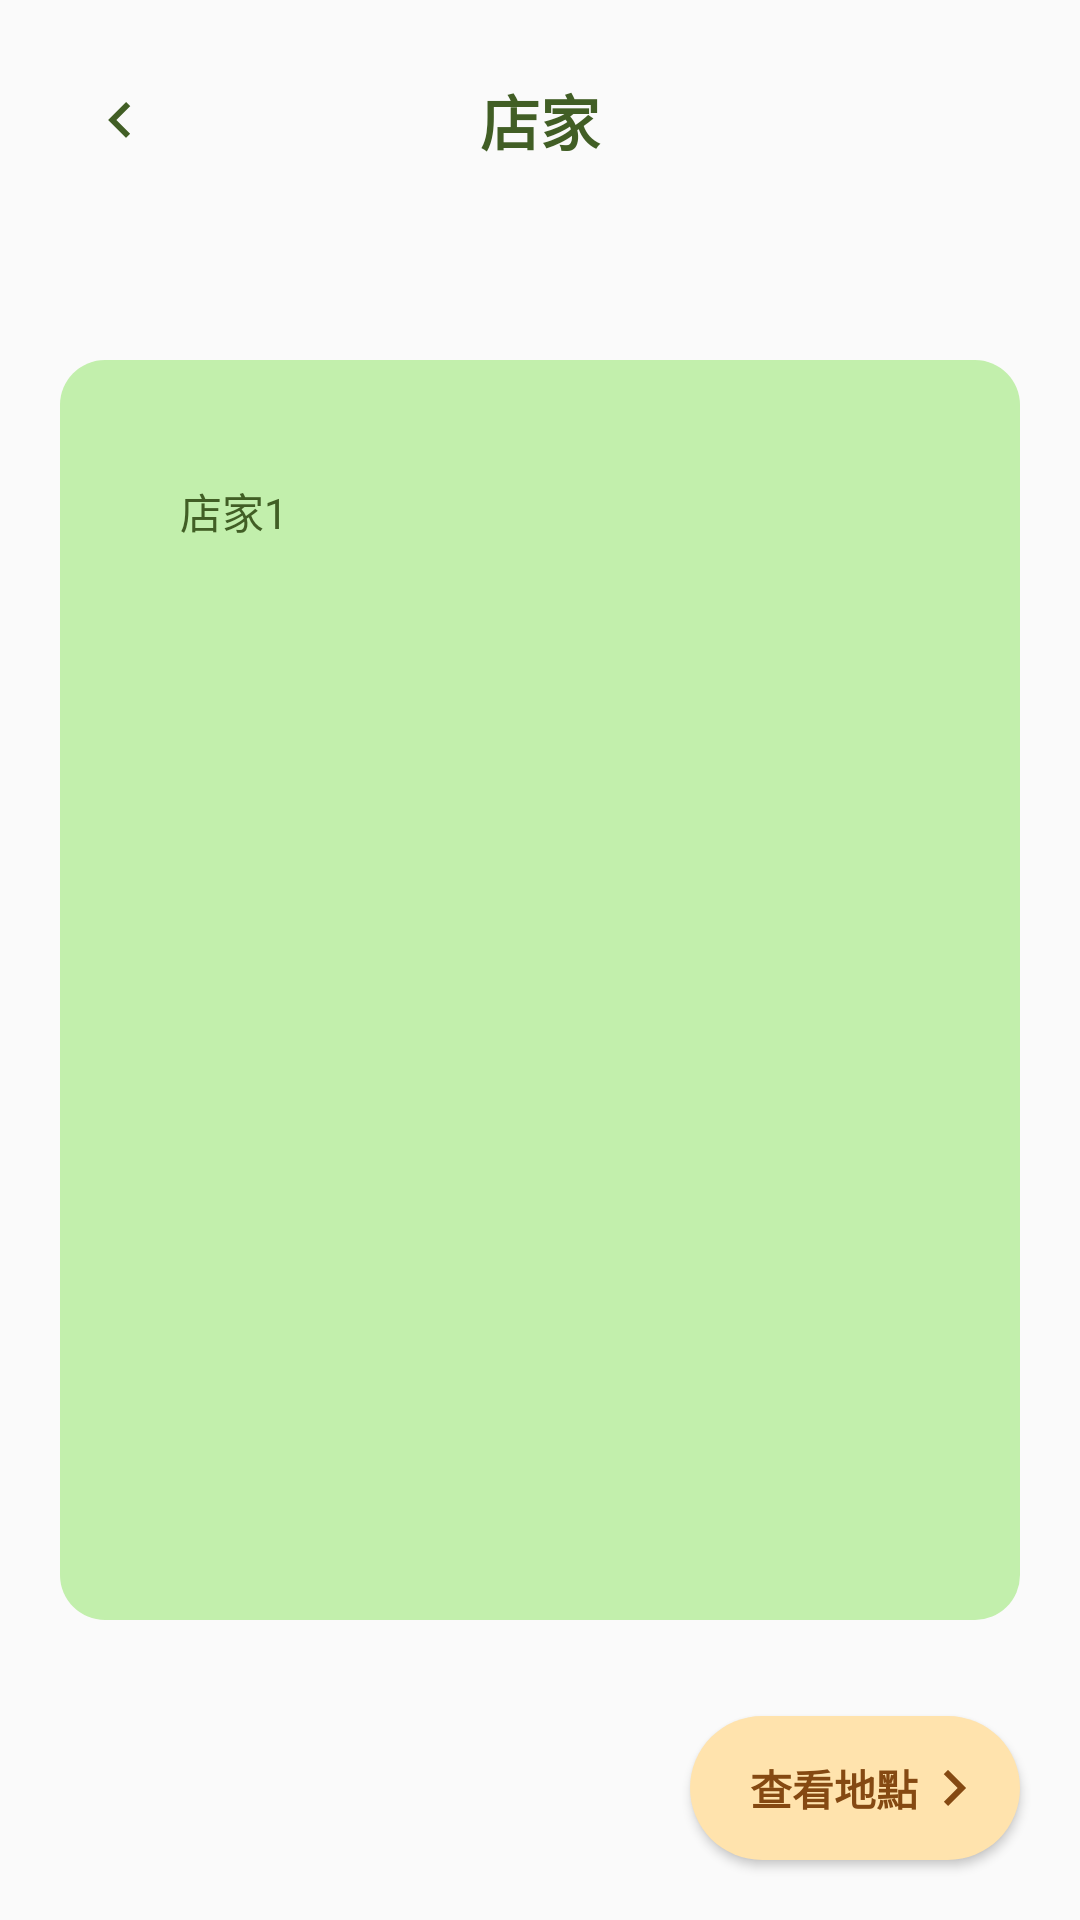

Where to tap for icons on this 1080x1920 app screen, as [x,y]:
keyboard arrow left: [119,120]
